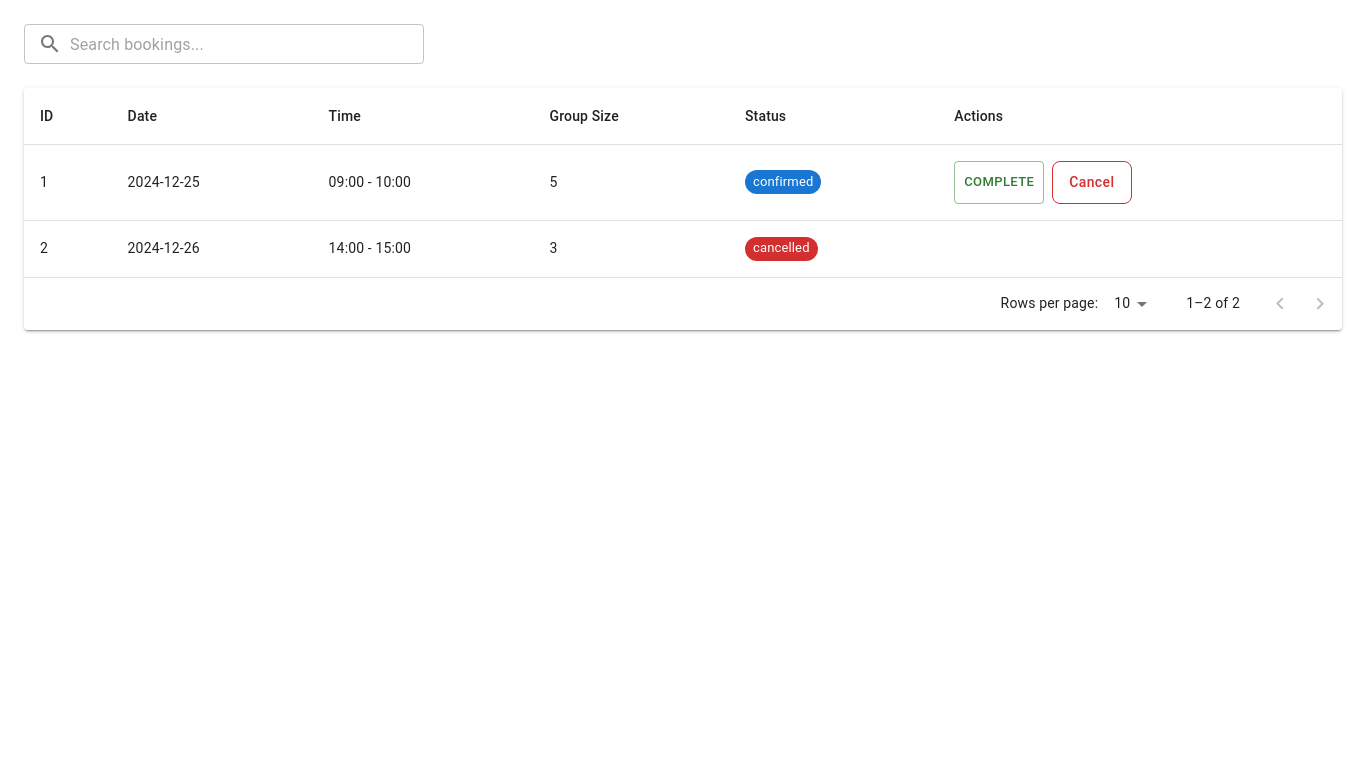
Test case: AdminBookingManagement › Confirmation Dialog › should close dialog when Cancel is clicked
Click the button "Cancel".
click(1092, 182)  # box [1052,161,1132,204]
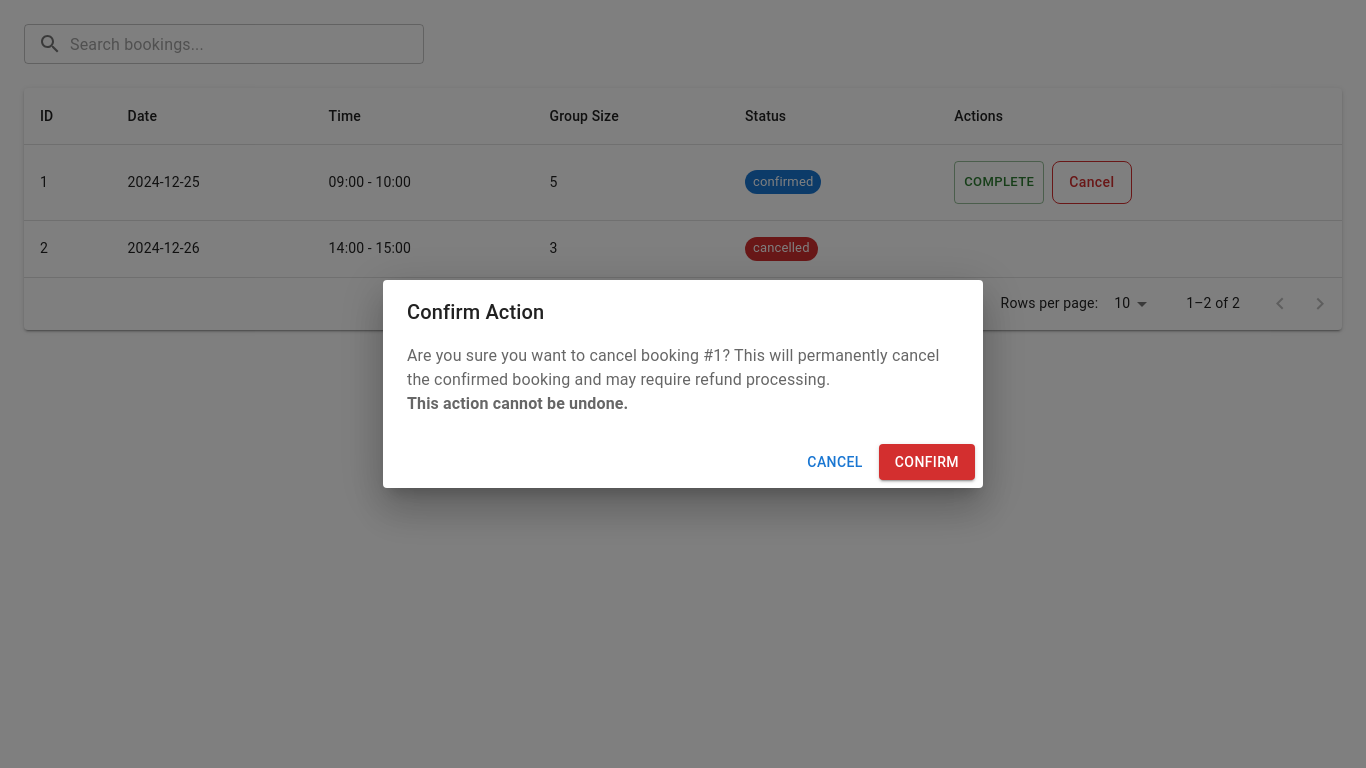
expect the heading "Confirm Action" is shown: met, box [407,300,544,324]
expect the button "Cancel" is shown: met
Click the button "Cancel".
click(835, 462)  # box [799,444,871,480]
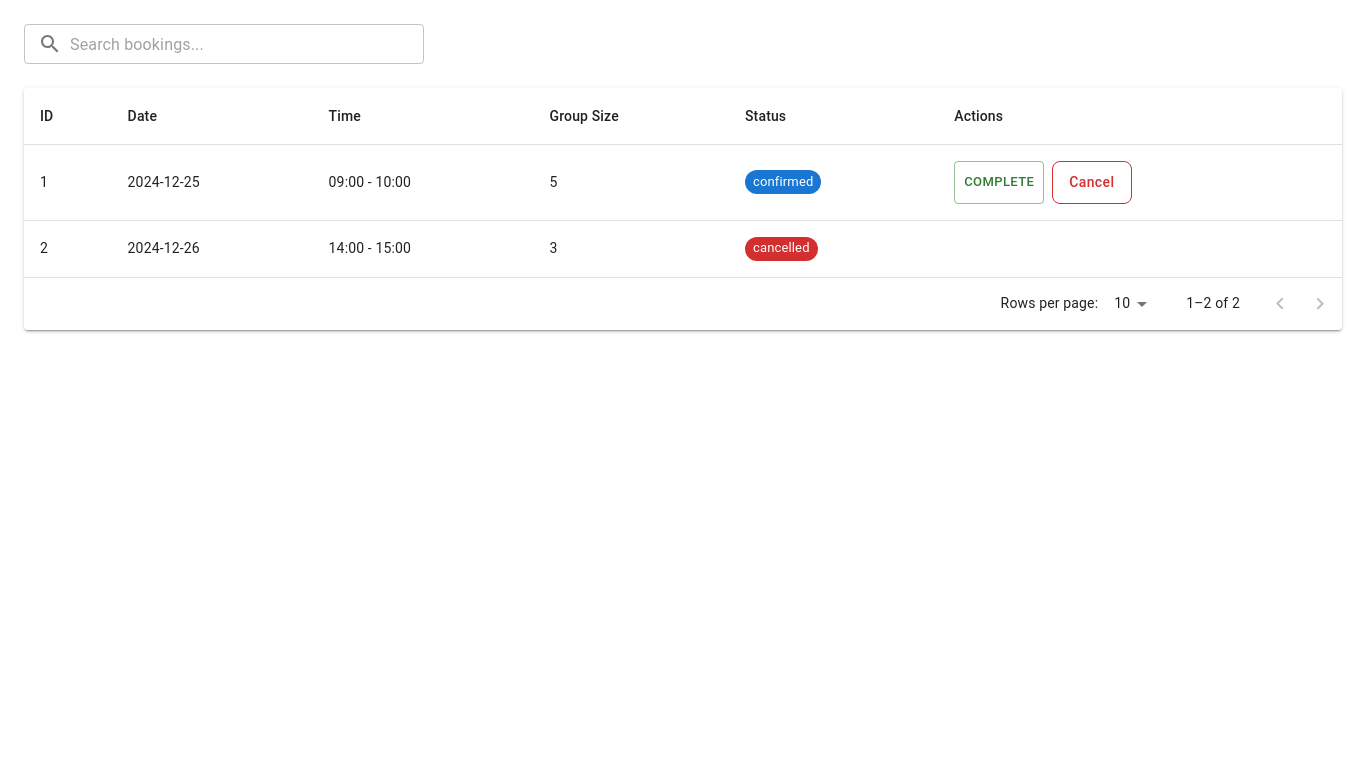
expect the heading "Confirm Action" is gone: met
